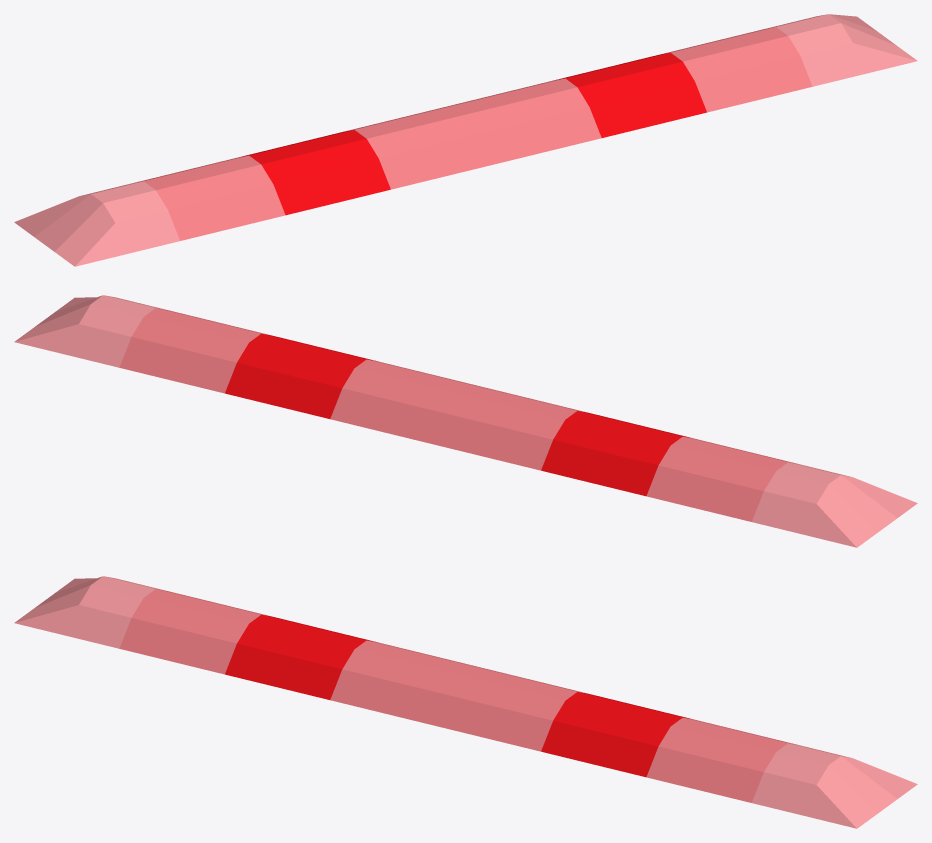
The model's file is speedbump1.fbx.
3 renders of one model, top to bottom at view 1: azimuth 30°, elevation 25°; view 2: azimuth 150°, elevation 25°; view 3: azimuth 330°, elevation 25°, orthographic.
Visible parts, largest first — view 1: Speedbump2; view 2: Speedbump2; view 3: Speedbump2.
Boxes of the visible parts, x1,y1,x2,y2 form: Speedbump2: (14,14,917,266); Speedbump2: (14,295,917,547); Speedbump2: (14,576,917,828).
Bounding box in the file's own units: 8 × 0.3 × 1.
